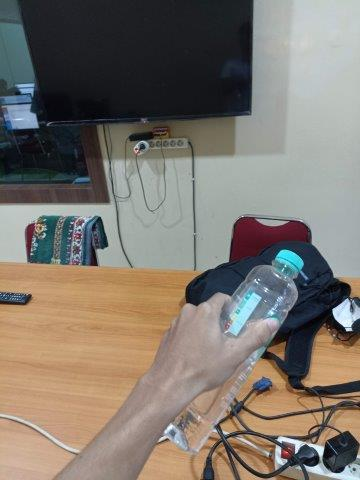botolplastik: (161, 249, 304, 455)
